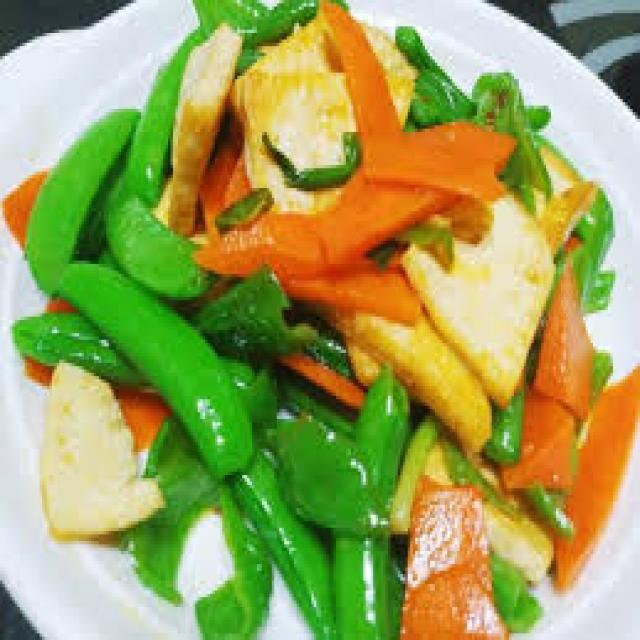organic waste: (49, 257, 252, 475), (401, 192, 554, 400), (388, 409, 553, 574), (346, 264, 489, 452), (10, 313, 259, 409), (32, 356, 161, 531), (222, 439, 336, 633), (25, 106, 136, 300), (333, 366, 408, 637), (548, 363, 638, 581), (150, 19, 240, 228), (232, 66, 361, 211), (396, 468, 506, 636), (128, 412, 220, 597), (188, 261, 341, 366), (116, 23, 205, 201), (264, 412, 390, 532), (314, 0, 395, 172), (190, 472, 270, 636), (96, 191, 212, 297), (363, 116, 512, 194), (321, 172, 452, 260), (529, 251, 595, 409), (470, 66, 551, 191), (274, 251, 420, 320), (522, 142, 596, 257), (393, 23, 474, 125), (496, 383, 576, 485), (190, 211, 324, 271), (222, 0, 346, 53), (227, 13, 331, 76), (262, 122, 358, 178), (561, 185, 613, 287), (363, 23, 415, 119), (192, 122, 240, 218), (507, 102, 551, 202), (193, 0, 267, 59), (0, 165, 44, 251), (486, 551, 538, 623), (482, 376, 524, 455), (526, 485, 574, 534), (341, 333, 378, 386), (578, 271, 616, 310), (584, 343, 610, 389)
